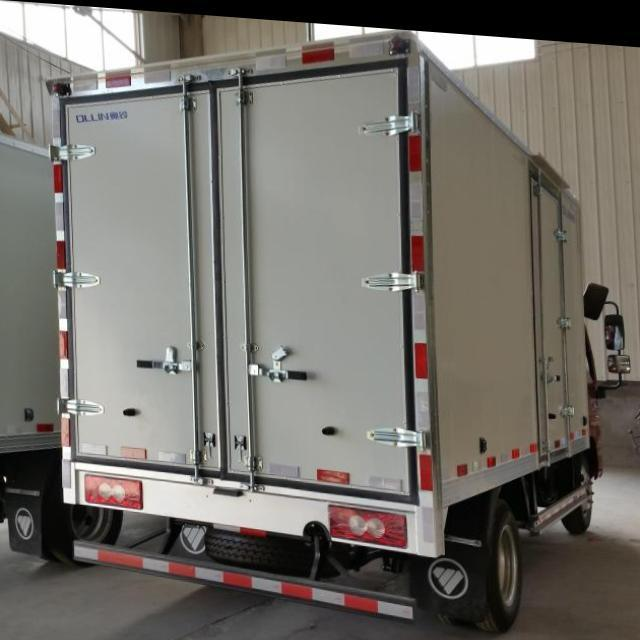covered: (50, 73, 621, 630)
